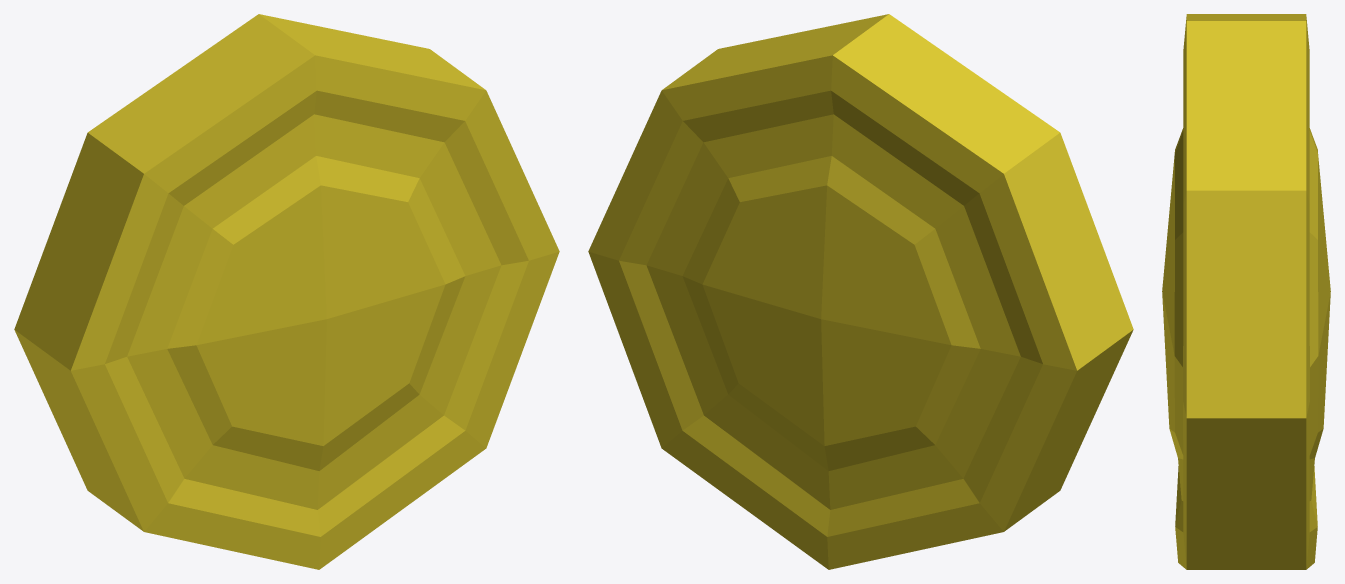
File: Coin.fbx
3 renders of one model, left to right at view 1: azimuth 30°, elevation 25°; view 2: azimuth 150°, elevation 25°; view 3: azimuth 270°, elevation 25°, orthographic. The views are drawn at different scales.
Visible parts, largest first — view 1: Cube; view 2: Cube; view 3: Cube.
Part boxes in pixels (<box>): Cube: <box>14,14,559,569</box>; Cube: <box>588,14,1133,569</box>; Cube: <box>1162,14,1330,569</box>.
Bounding box in the file's own units: 140 × 140 × 39.52.
